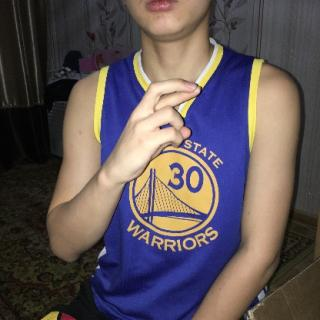ZAY: (100, 76, 204, 190)
